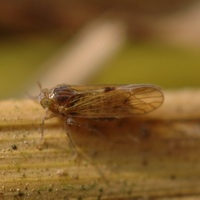insect: (38, 83, 163, 126)
